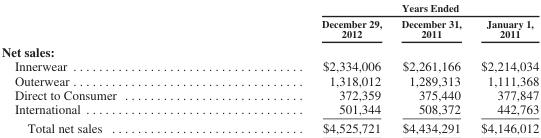table: (0, 1, 538, 135)
table column: (0, 1, 218, 135), (218, 1, 390, 135), (390, 1, 470, 135), (470, 1, 538, 135)
table column header: (0, 1, 538, 41)
table projected row header: (0, 41, 538, 58)
table row: (0, 15, 538, 41), (0, 41, 538, 58), (0, 101, 538, 118), (0, 118, 538, 135), (0, 58, 538, 73), (0, 1, 538, 15), (0, 73, 538, 87), (0, 87, 538, 101)
table spanning cell: (218, 1, 538, 15)
